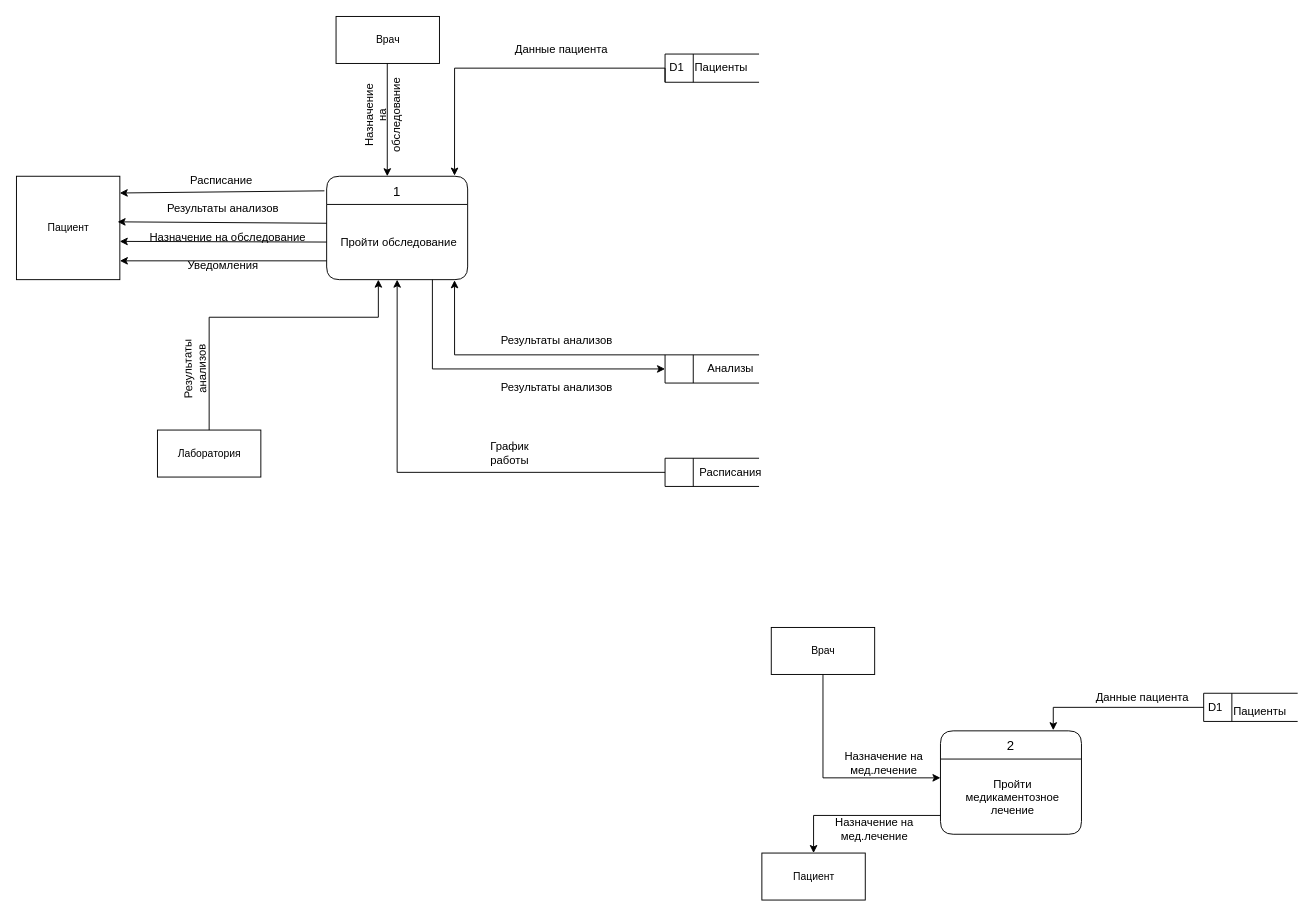
This 1314x917 diagram has some shape labels left out. The box of each missing label's shape, as (x1, y1, x2, y2) in pixels:
D2: (664, 354, 759, 383)
D3: (664, 457, 759, 486)
